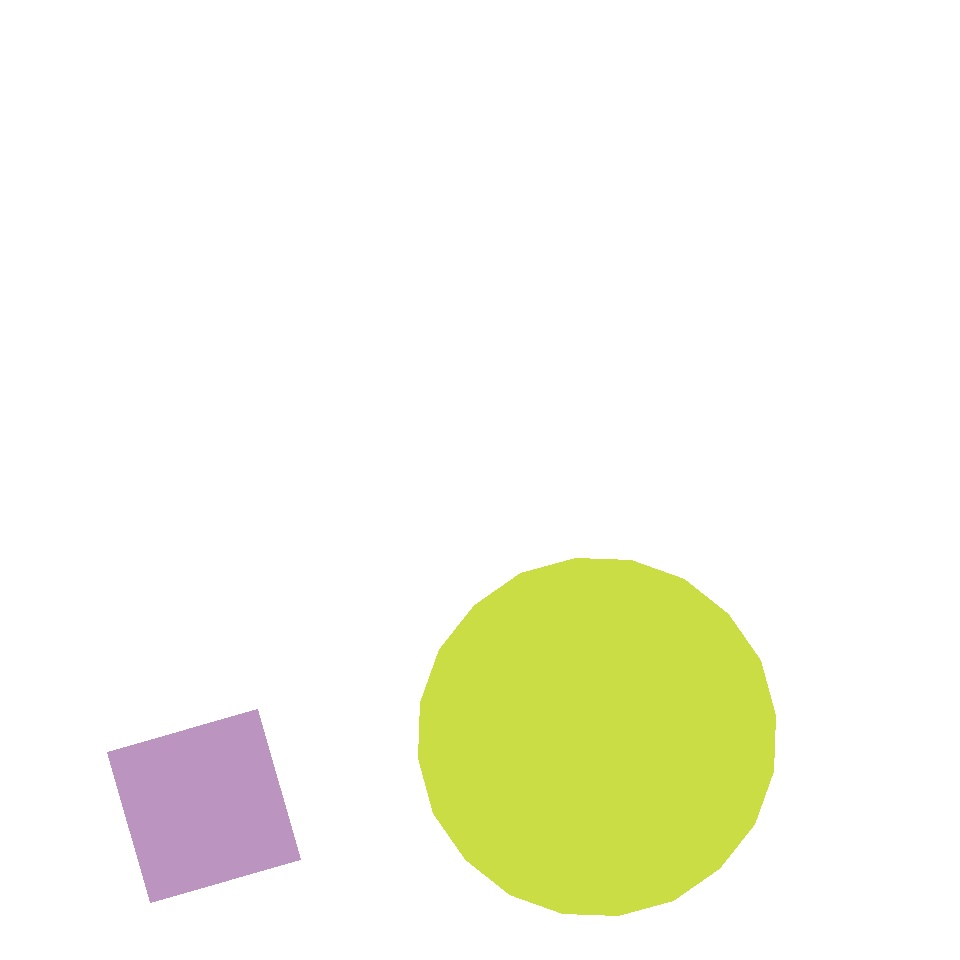square: (92, 574, 430, 912), (124, 474, 412, 762), (592, 174, 868, 450), (482, 103, 744, 366), (107, 710, 300, 903), (665, 136, 858, 328)
triangle: (418, 558, 775, 916), (608, 590, 942, 924)
